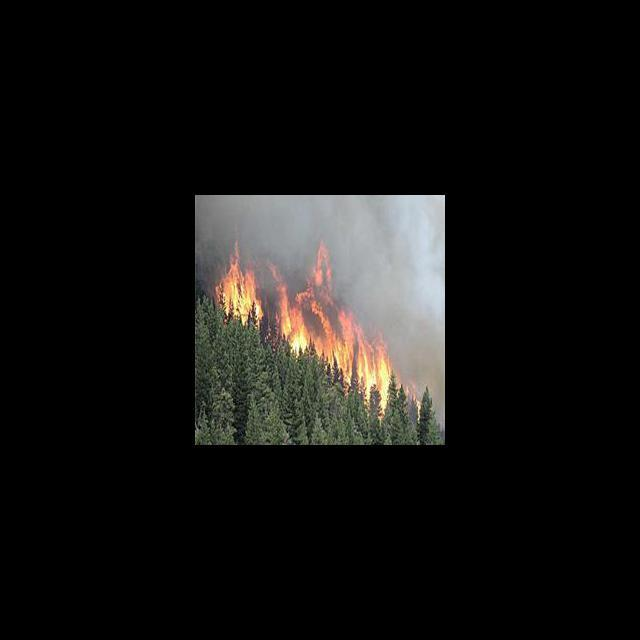Fire: (267, 240, 400, 386), (212, 233, 264, 324)
